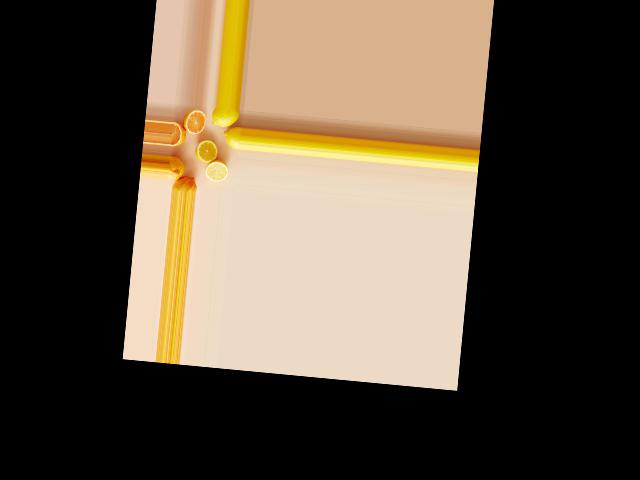lemon: (170, 171, 199, 192)
